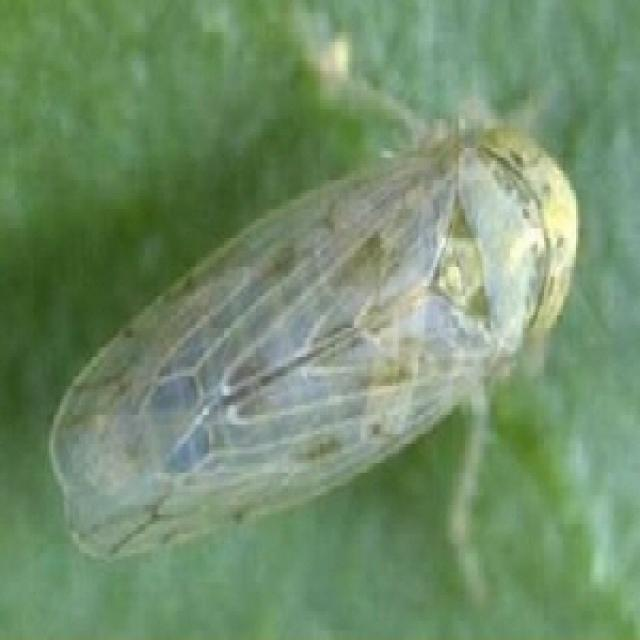Yechan: (56, 104, 598, 579)
